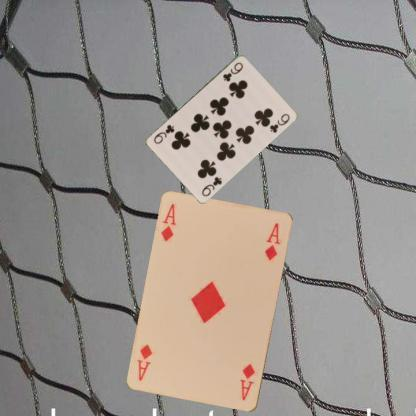9c: (198, 174, 223, 198), (220, 60, 245, 82)
Ad: (158, 201, 178, 243), (238, 361, 256, 402)
